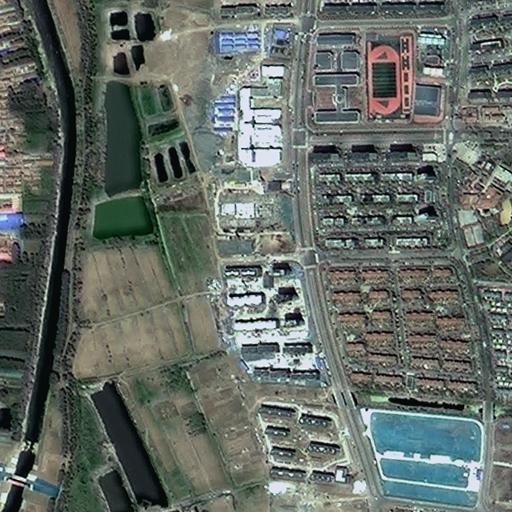school: (303, 26, 412, 127)
